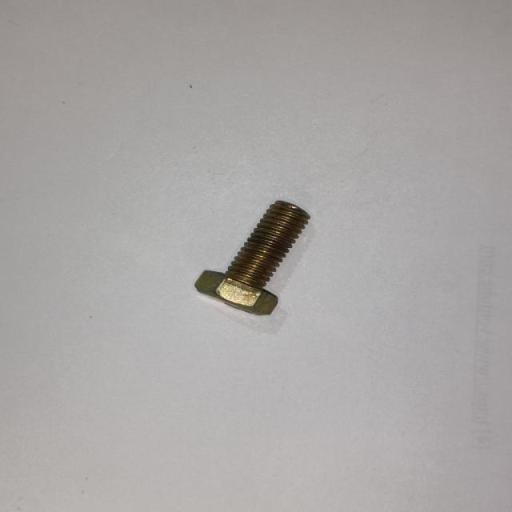Bolt: (194, 200, 310, 316)
